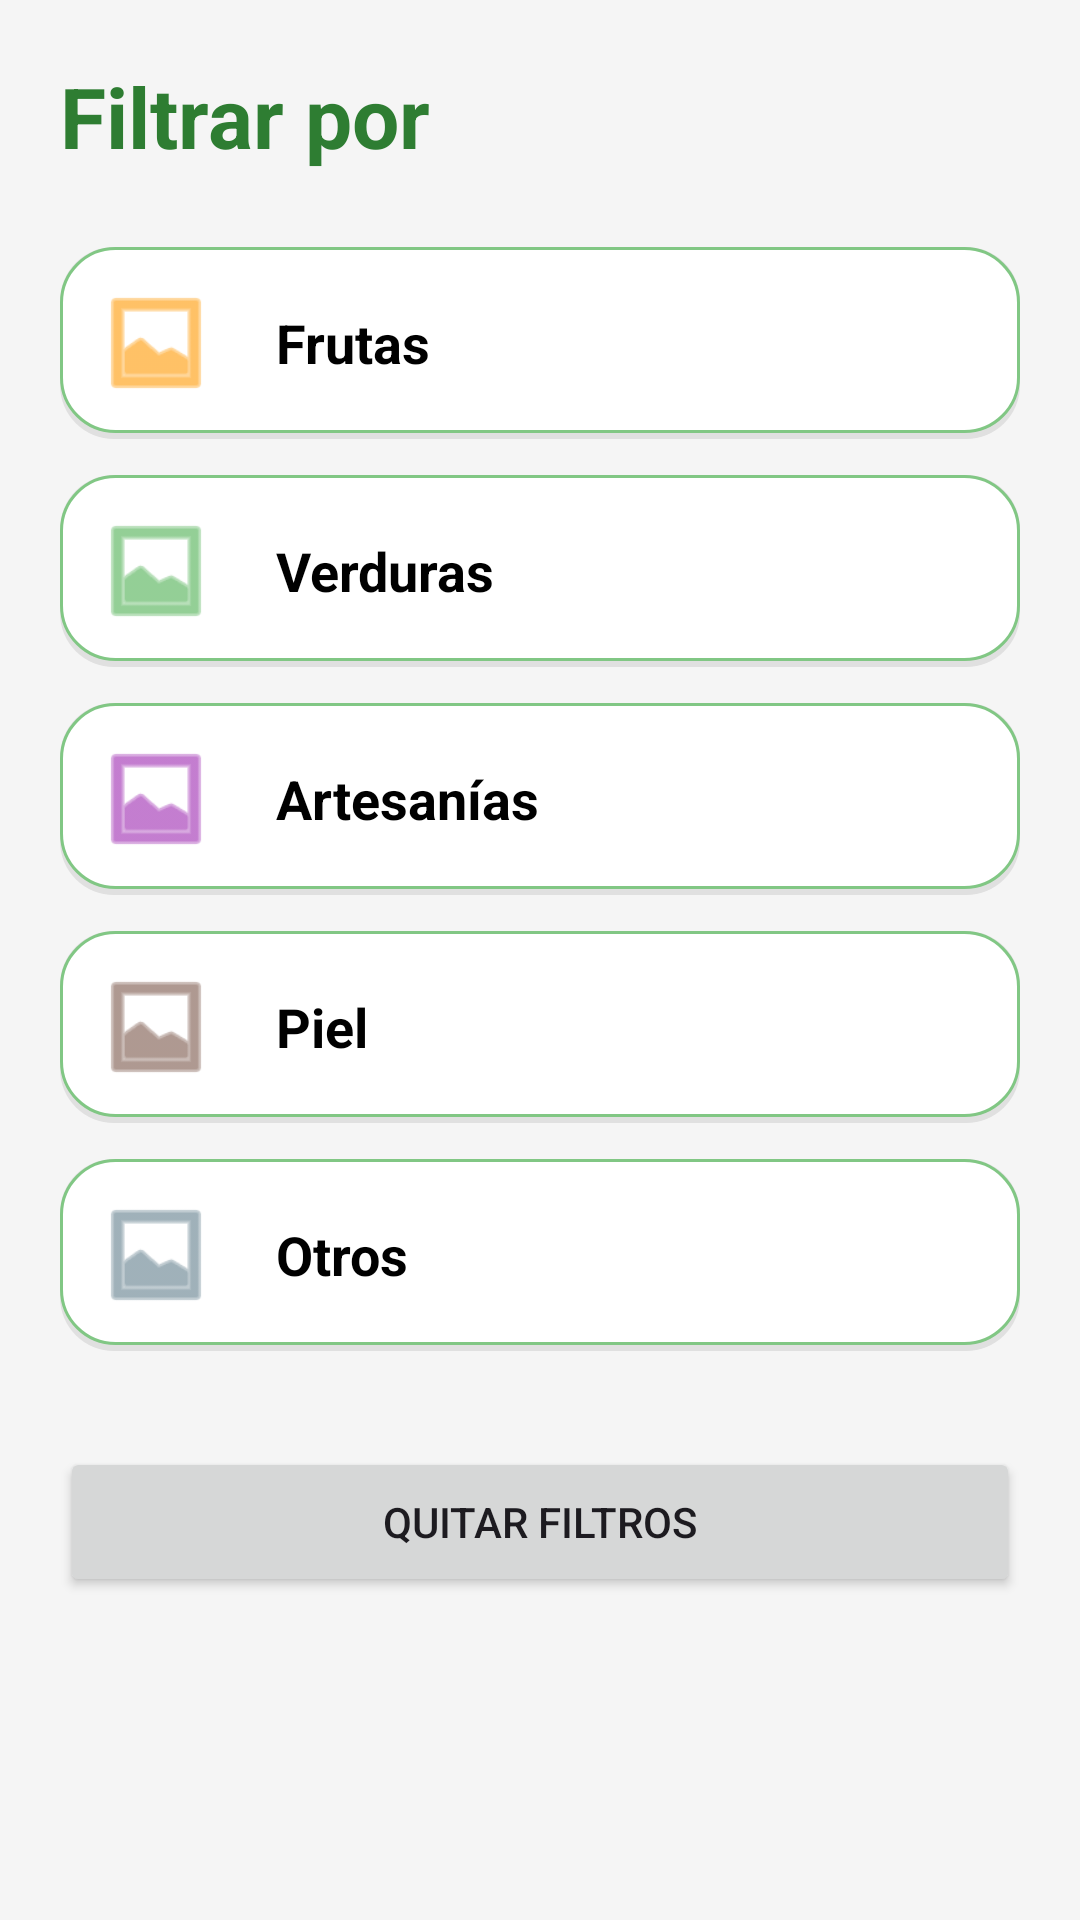

Locate icon controls on the screen. Image size 1080 × 1920, boxes as (left=x1, top=y1, right=x2, bottom=y2).
gallery: (left=111, top=298, right=201, bottom=388), (left=111, top=526, right=201, bottom=616), (left=111, top=754, right=201, bottom=844), (left=111, top=982, right=201, bottom=1072), (left=111, top=1210, right=201, bottom=1300)
